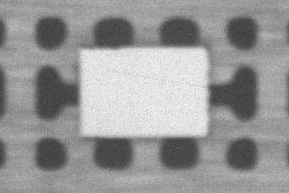DIE_CRACK: (159, 47, 289, 58)
